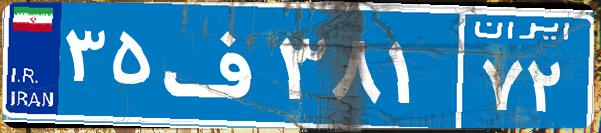1: (385, 28, 445, 110)
2: (525, 38, 570, 115)
3: (273, 28, 330, 110), (57, 26, 110, 107)
5: (110, 28, 158, 105)
7: (475, 38, 525, 113)
8: (330, 28, 385, 110)
ف: (158, 15, 273, 115)
